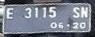clone-license-plate: (2, 2, 91, 33)
